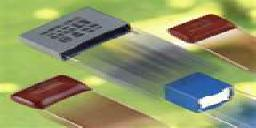Electrolytic-Capacitor: (18, 6, 138, 61), (11, 73, 103, 128), (163, 69, 243, 120), (166, 10, 245, 51)
